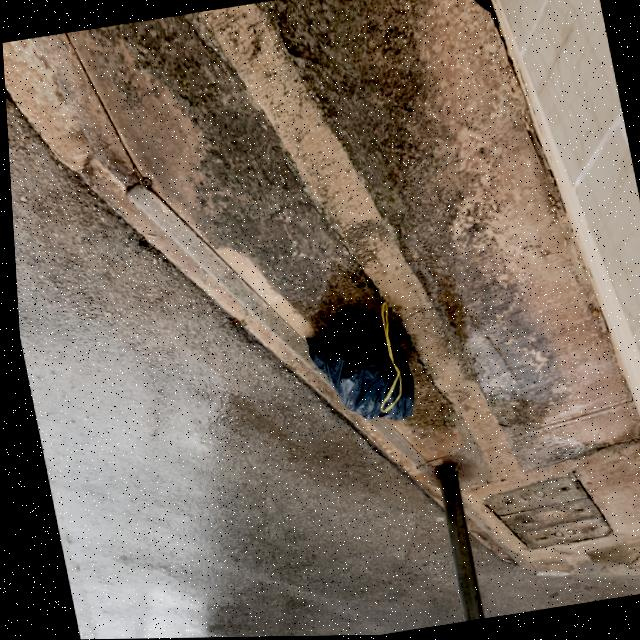Mixed Waste -Black Bag-: (294, 298, 416, 436)
